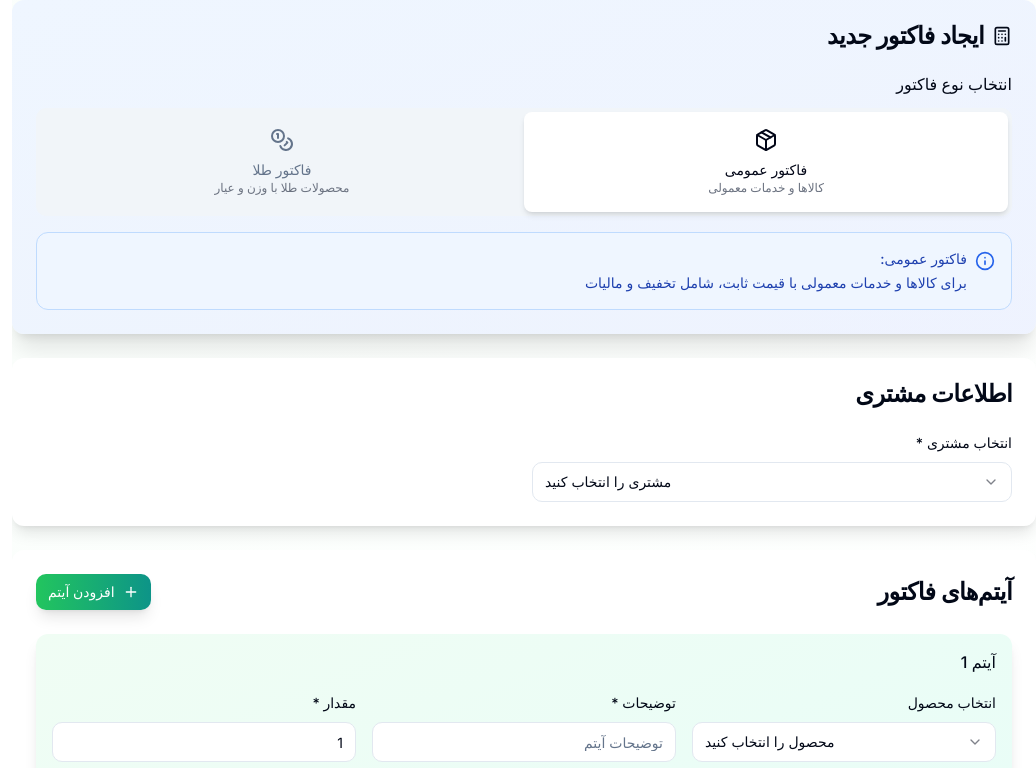
Scenario: InvoiceForm › Form Validation › should show validation error for empty item description
This screenshot has width=1036, height=768.
Note: Select a customer
Click the dropdown labelled "مشتری را انتخاب کنید" at (608, 482), box x1=532 y1=462 x2=1012 y2=502
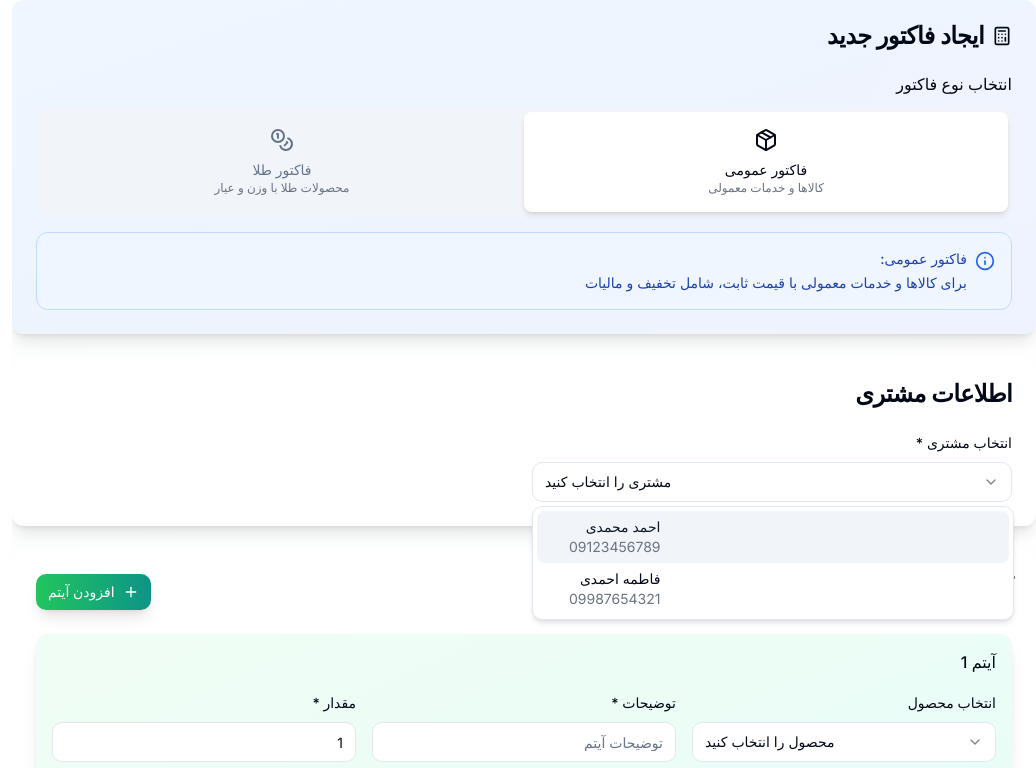
Click the text "احمد محمدی" at (623, 526), box x1=586 y1=518 x2=660 y2=535
(page scrolled)
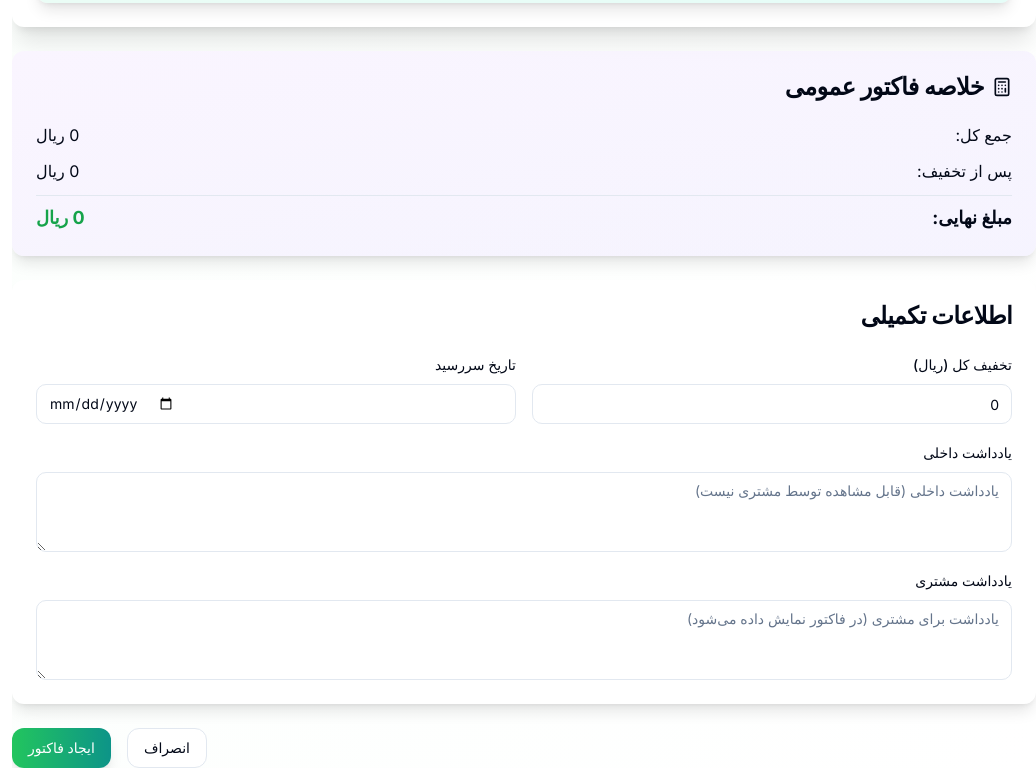
Click the button "ایجاد فاکتور" at (61, 748), box x1=12 y1=728 x2=111 y2=767
(page scrolled)
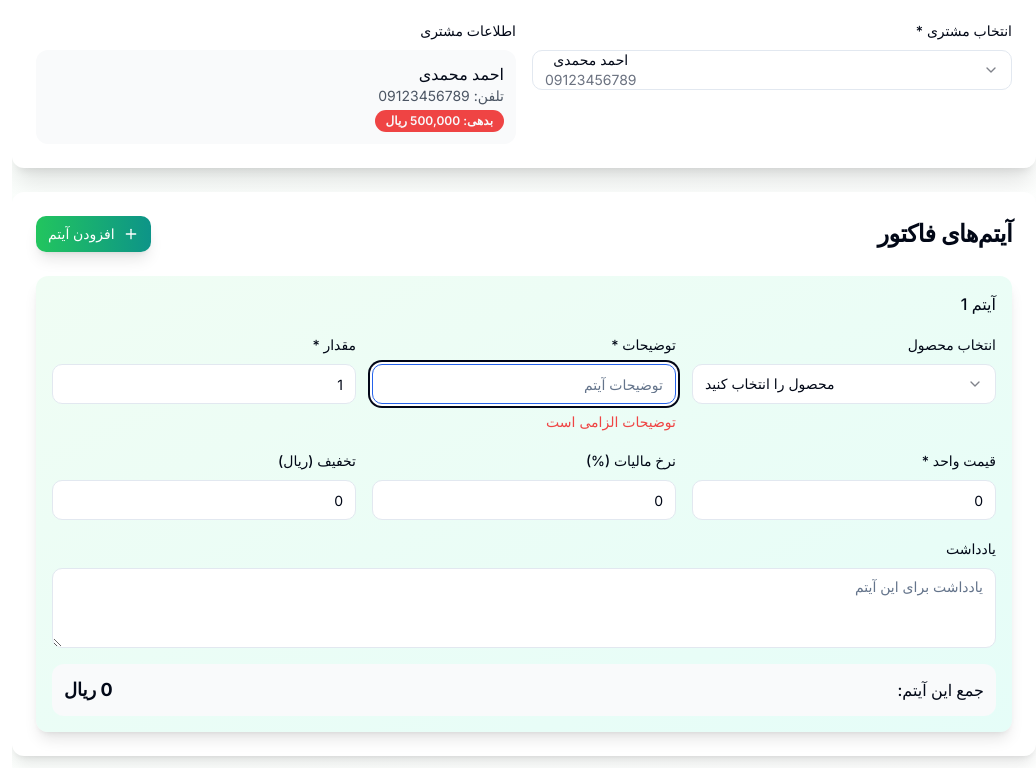
expect the text "توضیحات الزامی است" is shown: met, box x1=546 y1=413 x2=676 y2=430
